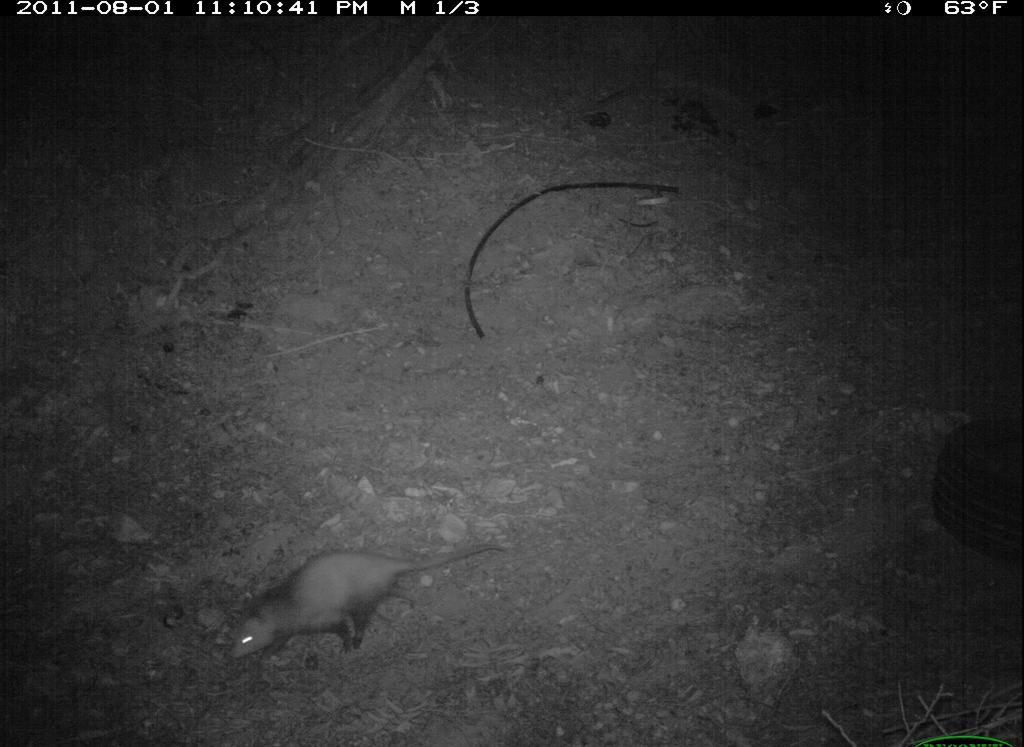opossum: (205, 513, 533, 670)
